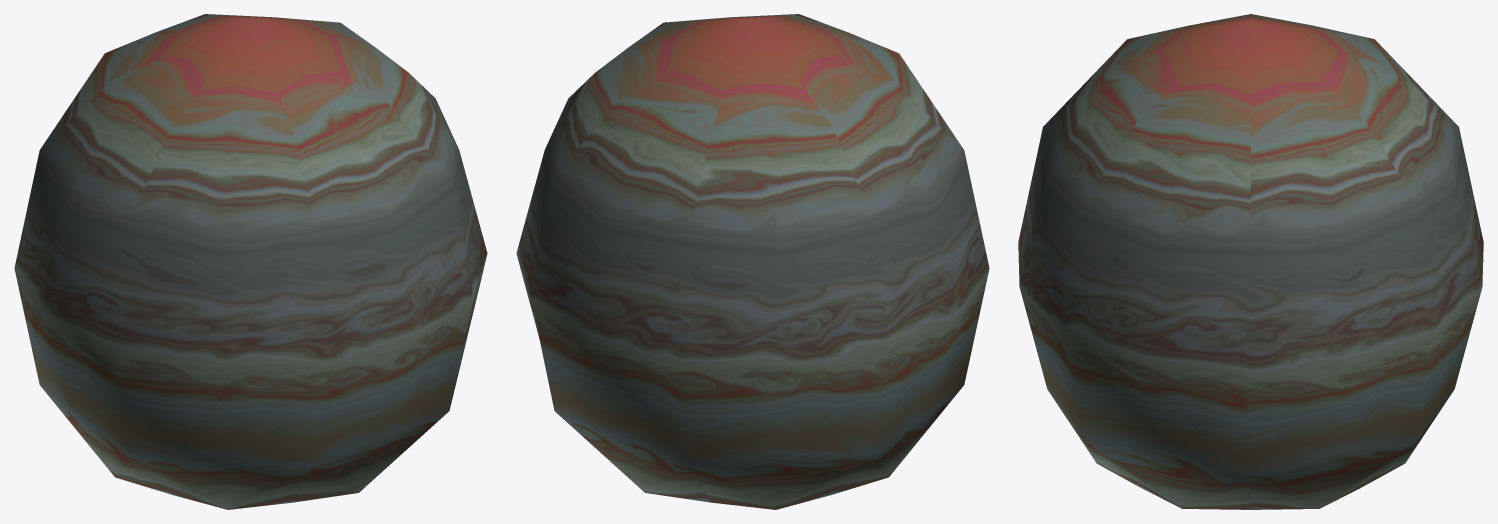
Rendered from Planet3.fbx.
3 renders of one model, left to right at view 1: azimuth 30°, elevation 25°; view 2: azimuth 150°, elevation 25°; view 3: azimuth 270°, elevation 25°, orthographic.
Parts seen in each view (by area): view 1: pasted__pSphere2; view 2: pasted__pSphere2; view 3: pasted__pSphere2.
Boxes of the visible parts, left/top/right/bottom form: pasted__pSphere2: left=14, top=14, right=487, bottom=509; pasted__pSphere2: left=516, top=14, right=989, bottom=509; pasted__pSphere2: left=1018, top=14, right=1483, bottom=509.
Bounding box in the file's own units: 1.56 × 1.76 × 1.53.
Materials: 1 (1 with a texture image).
